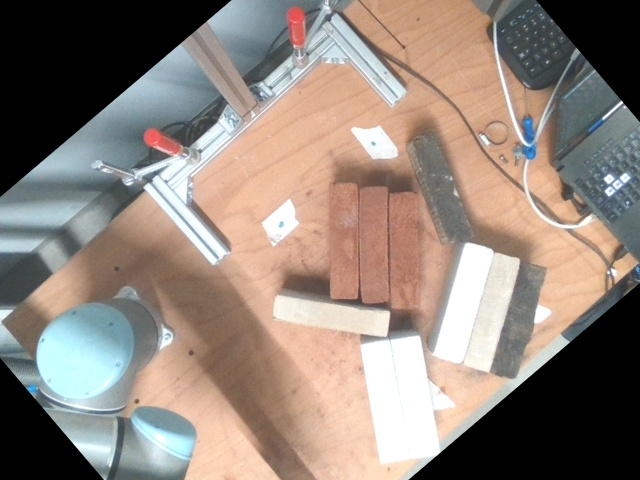brick-side: (436, 243, 494, 362), (414, 129, 473, 238), (466, 253, 520, 370), (491, 263, 546, 376), (360, 342, 409, 463), (393, 337, 440, 458), (276, 298, 389, 336), (389, 194, 417, 306), (331, 184, 358, 298), (362, 189, 387, 301)
